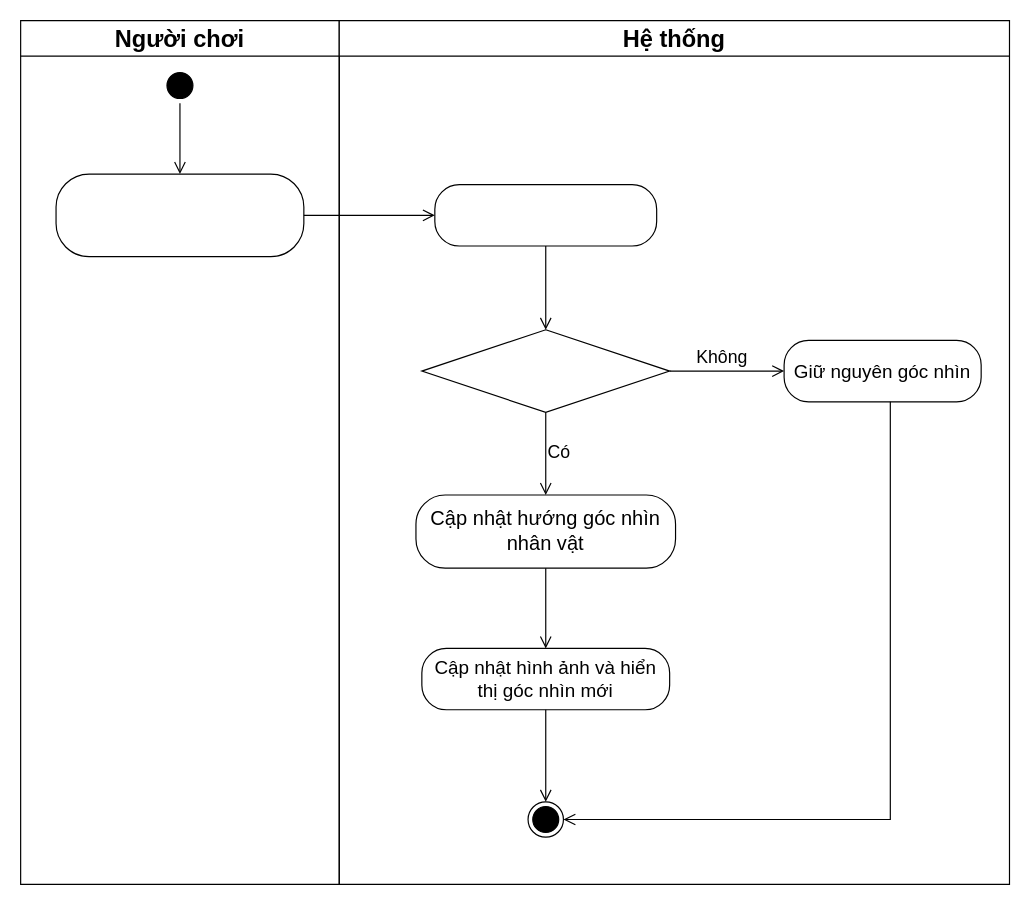
This 1030x905 diagram has some shape labels left out. The shapes that lost their labels are listed below. From the top down, each one's box as (x1, y1, x2, y2) in pixels, then its label:
(55, 173, 304, 257): Người chơi di chuyển chuột
(434, 183, 657, 246): Đọc vị trí con trỏ chuột
(421, 329, 670, 412): Vị trí con trỏ thay đổi
